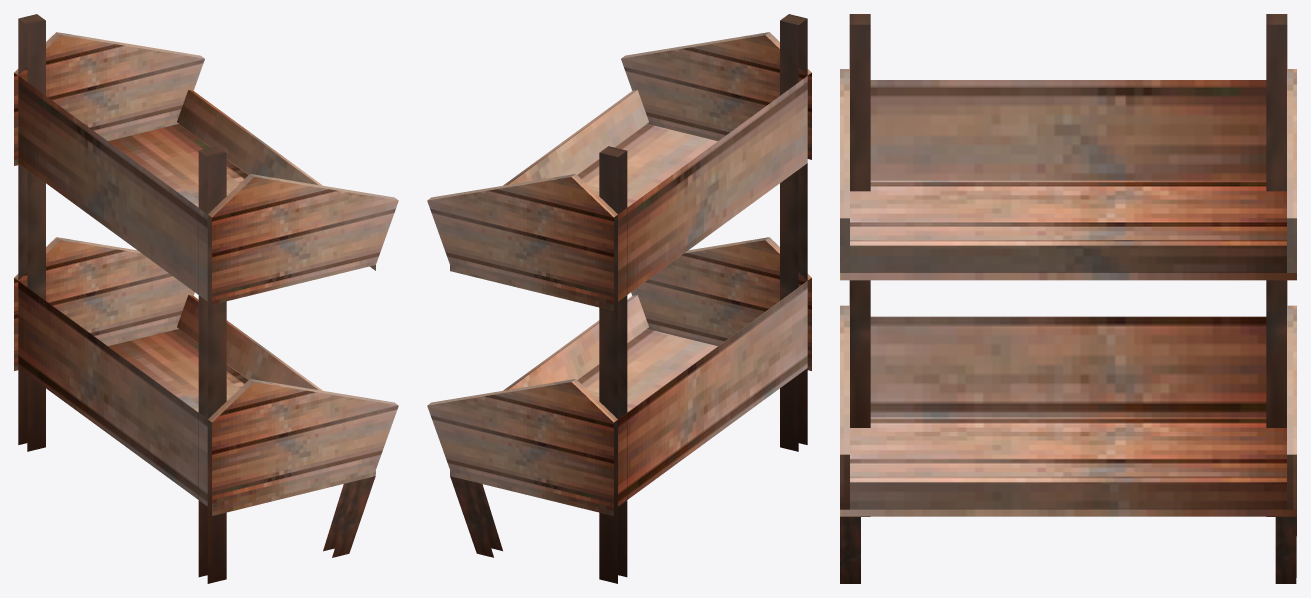
Rendered from WhiteShalf.fbx.
The picture shows the model from 3 angles, left to right: view 1: azimuth 30°, elevation 25°; view 2: azimuth 150°, elevation 25°; view 3: azimuth 270°, elevation 25°; orthographic projection. The views are drawn at different scales.
Visible parts, largest first — view 1: Shalf; view 2: Shalf; view 3: Shalf.
Part boxes in pixels (x1,y1,x2,y2): Shalf: (14, 14, 398, 583); Shalf: (427, 14, 811, 583); Shalf: (840, 14, 1296, 583).
Bounding box in the file's own units: 200 × 437 × 367.
